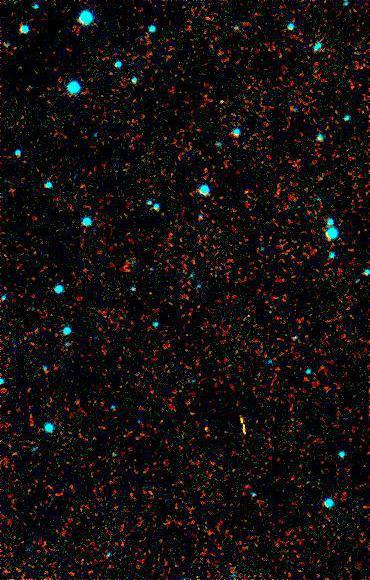star: (231, 181, 261, 211)
